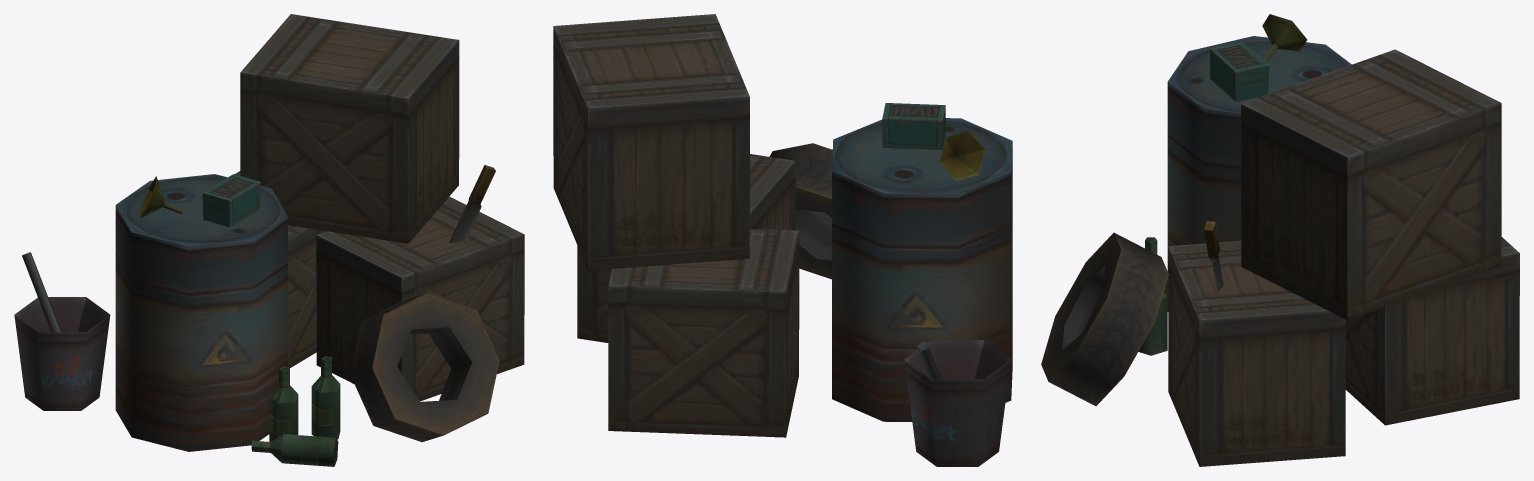
File: mi_ruin004.FBX
3 renders of one model, left to right at view 1: azimuth 30°, elevation 25°; view 2: azimuth 150°, elevation 25°; view 3: azimuth 270°, elevation 25°, orthographic. The views are drawn at different scales.
Parts seen in each view (by area): view 1: mi_ruin004; view 2: mi_ruin004; view 3: mi_ruin004.
Boxes of the visible parts, x1,y1,x2,y2 form: mi_ruin004: [14, 14, 524, 466]; mi_ruin004: [553, 14, 1012, 466]; mi_ruin004: [1041, 14, 1519, 466].
Bounding box in the file's own units: 1.91 × 1.23 × 1.7.
1 material, 1 textured.
